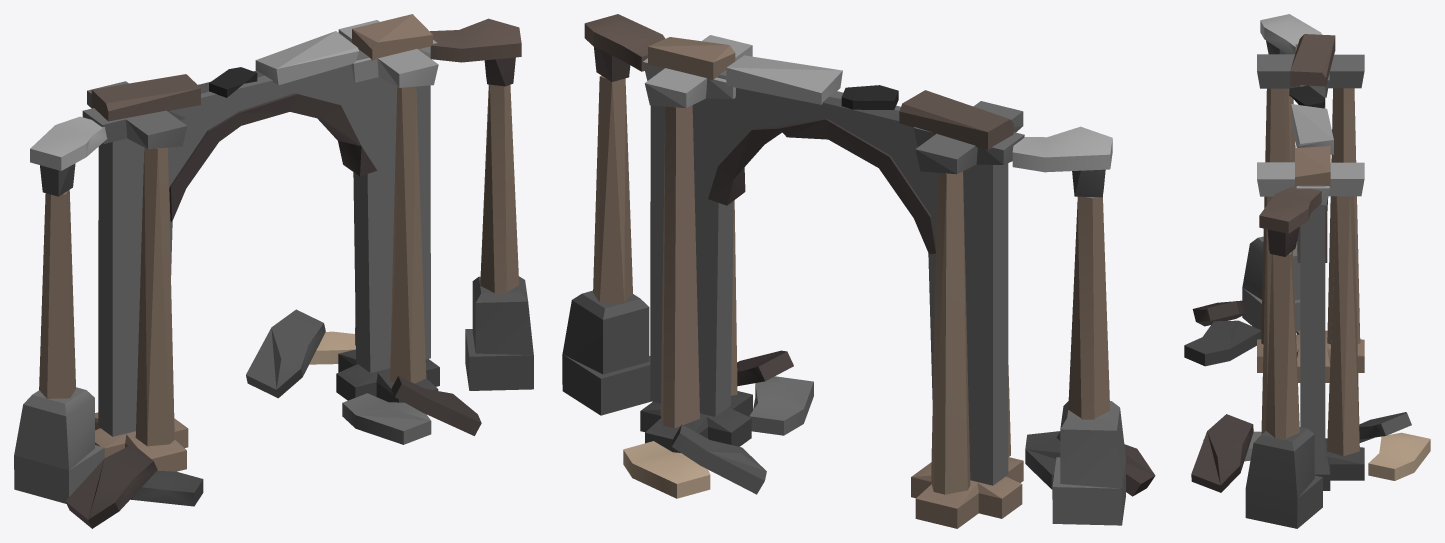
Rendered from ruin5.fbx.
3 renders of one model, left to right at view 1: azimuth 30°, elevation 25°; view 2: azimuth 150°, elevation 25°; view 3: azimuth 270°, elevation 25°, orthographic. The views are drawn at different scales.
Parts seen in each view (by area): view 1: Object.003; view 2: Object.003; view 3: Object.003.
Boxes of the visible parts, bbox=[...] form: Object.003: bbox=[14, 14, 533, 528]; Object.003: bbox=[562, 14, 1155, 528]; Object.003: bbox=[1184, 14, 1430, 528].
Bounding box in the file's own units: 15285 × 10350 × 7166.
